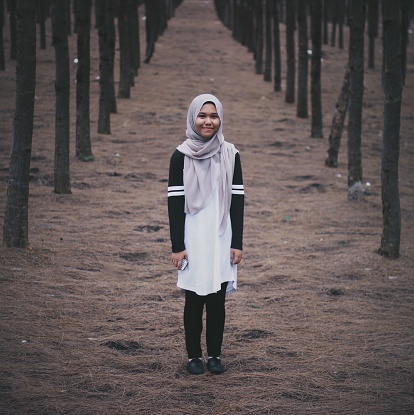em pe: (162, 76, 246, 382)
